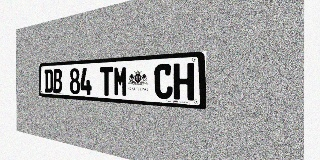4: (80, 67, 91, 95)
8: (70, 68, 80, 94)
B: (53, 69, 62, 93)
C: (154, 64, 173, 99)
D: (45, 69, 53, 93)
H: (173, 63, 194, 101)
M: (113, 66, 128, 97)
T: (100, 66, 113, 96)
